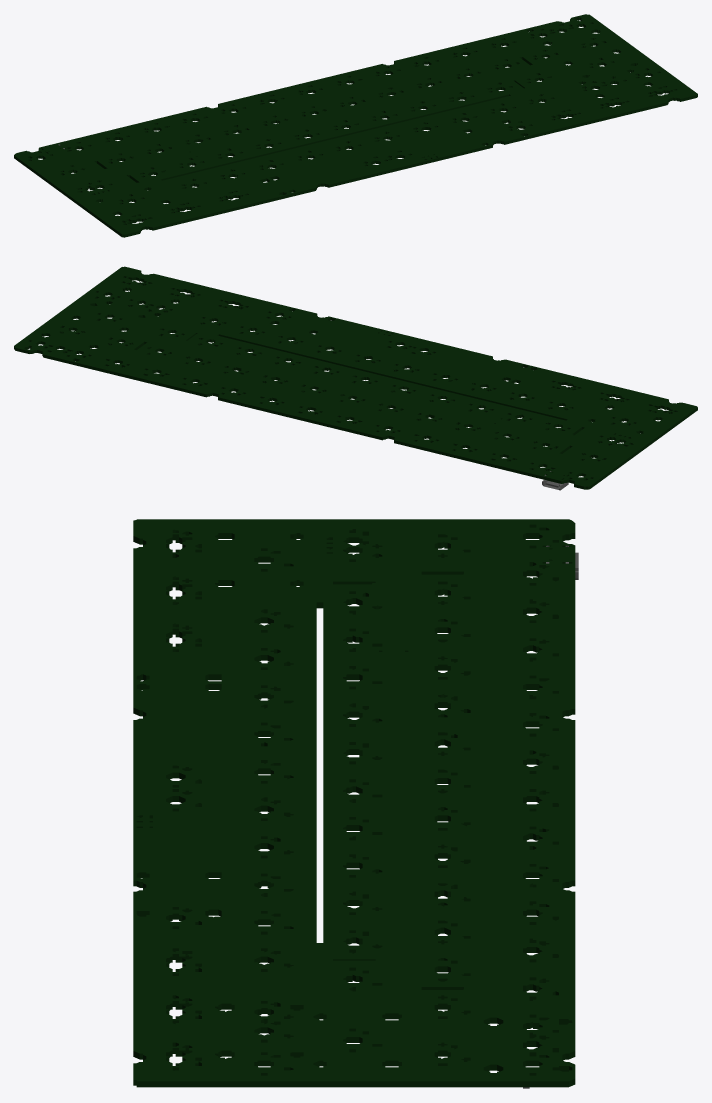
File: jay60.glb
3 renders of one model, top to bottom at view 1: azimuth 30°, elevation 25°; view 2: azimuth 150°, elevation 25°; view 3: azimuth 270°, elevation 25°, orthographic. The views are drawn at different scales.
Parts seen in each view (by area): view 1: jay60; view 2: jay60; view 3: jay60.
Part boxes in pixels (box(x1,y1,x2,y2)): jay60: box(14, 14, 697, 237); jay60: box(14, 266, 697, 490); jay60: box(133, 519, 578, 1088).
Bounding box in the file's own units: 284 × 4.2 × 95.2.
